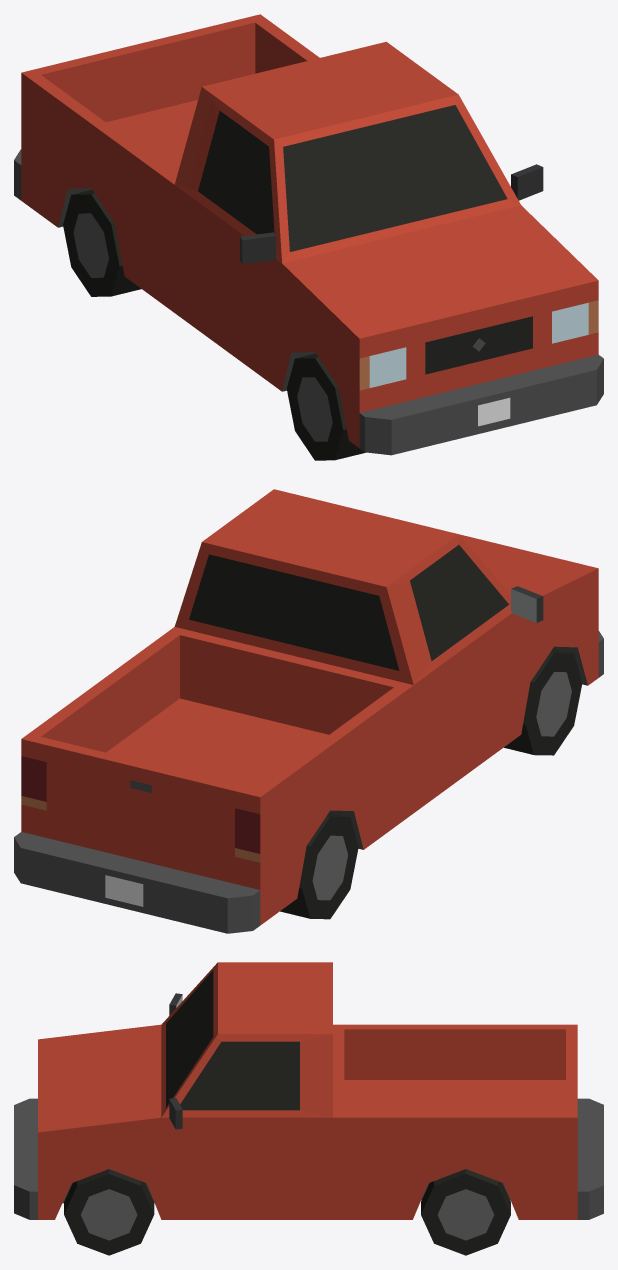
The model's file is Veh_Pickup_01_Red.glb.
3 views of the same model, one above another, from view 1: azimuth 30°, elevation 25°; view 2: azimuth 150°, elevation 25°; view 3: azimuth 270°, elevation 25° (orthographic). The views are drawn at different scales.
Parts seen in each view (by area): view 1: Pickup_01_Default, Wheel_FR, Wheel_RR; view 2: Pickup_01_Default, Wheel_RR, Wheel_FR; view 3: Pickup_01_Default, Wheel_FL, Wheel_RL.
Part boxes in pixels (box(x1,y1,x2,y2)): Pickup_01_Default: box(14, 14, 603, 455); Wheel_FR: box(286, 353, 365, 460); Wheel_RR: box(63, 190, 141, 296); Pickup_01_Default: box(14, 489, 603, 933); Wheel_RR: box(280, 812, 358, 919); Wheel_FR: box(504, 648, 582, 755); Pickup_01_Default: box(14, 962, 603, 1219); Wheel_FL: box(64, 1169, 154, 1255); Wheel_RL: box(421, 1169, 510, 1255).
Bounding box in the file's own units: 1.34 × 1.12 × 2.85.
1 material, 1 textured.
